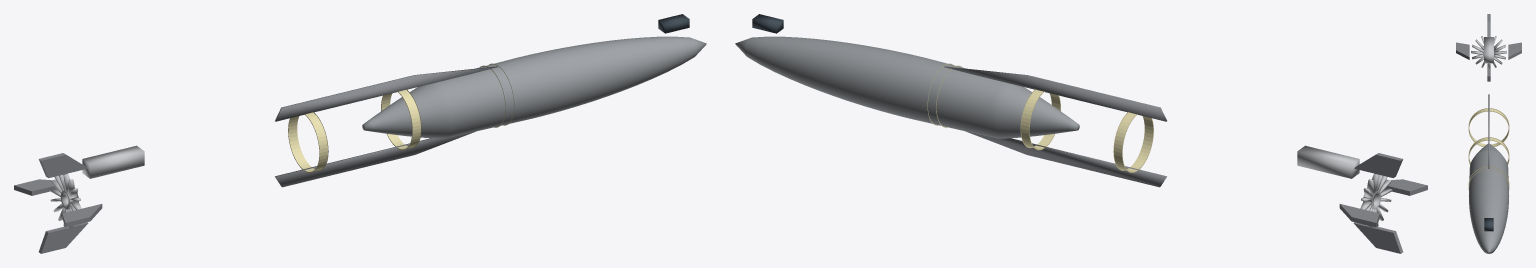
File: UK_TORP_Tigerfish_Mod1_LOD0.fbx
3 renders of one model, left to right at view 1: azimuth 30°, elevation 25°; view 2: azimuth 150°, elevation 25°; view 3: azimuth 270°, elevation 25°, orthographic. The views are drawn at different scales.
Parts seen in each view (by area): view 1: WPN_UK_TORP_Tigerfish_Mod1_LOD0_Body, WPN_UK_TORP_Tigerfish_Mod1_LOD0_Detail, WPN_UK_TORP_Tigerfish_Mod1_LOD0_Fins, WPN_UK_TORP_Tigerfish_Mod1_LOD0_Marking, WPN_UK_TORP_Tigerfish_Mod1_LOD0_Propulsor, WPN_UK_TORP_Tigerfish_Mod1_LOD0_Seeker; view 2: WPN_UK_TORP_Tigerfish_Mod1_LOD0_Body, WPN_UK_TORP_Tigerfish_Mod1_LOD0_Detail, WPN_UK_TORP_Tigerfish_Mod1_LOD0_Fins, WPN_UK_TORP_Tigerfish_Mod1_LOD0_Marking, WPN_UK_TORP_Tigerfish_Mod1_LOD0_Propulsor, WPN_UK_TORP_Tigerfish_Mod1_LOD0_Seeker; view 3: WPN_UK_TORP_Tigerfish_Mod1_LOD0_Body, WPN_UK_TORP_Tigerfish_Mod1_LOD0_Marking, WPN_UK_TORP_Tigerfish_Mod1_LOD0_Fins, WPN_UK_TORP_Tigerfish_Mod1_LOD0_Propulsor, WPN_UK_TORP_Tigerfish_Mod1_LOD0_Detail, WPN_UK_TORP_Tigerfish_Mod1_LOD0_Seeker.
Boxes of the visible parts, box(x1,y1,x2,y2) form: WPN_UK_TORP_Tigerfish_Mod1_LOD0_Body: box(362, 36, 706, 138); WPN_UK_TORP_Tigerfish_Mod1_LOD0_Detail: box(82, 66, 497, 187); WPN_UK_TORP_Tigerfish_Mod1_LOD0_Fins: box(14, 153, 102, 253); WPN_UK_TORP_Tigerfish_Mod1_LOD0_Marking: box(288, 63, 514, 172); WPN_UK_TORP_Tigerfish_Mod1_LOD0_Propulsor: box(49, 173, 81, 228); WPN_UK_TORP_Tigerfish_Mod1_LOD0_Seeker: box(658, 14, 689, 33); WPN_UK_TORP_Tigerfish_Mod1_LOD0_Body: box(735, 36, 1079, 138); WPN_UK_TORP_Tigerfish_Mod1_LOD0_Detail: box(944, 66, 1359, 187); WPN_UK_TORP_Tigerfish_Mod1_LOD0_Fins: box(1339, 153, 1427, 253); WPN_UK_TORP_Tigerfish_Mod1_LOD0_Marking: box(927, 63, 1153, 172); WPN_UK_TORP_Tigerfish_Mod1_LOD0_Propulsor: box(1360, 173, 1392, 228); WPN_UK_TORP_Tigerfish_Mod1_LOD0_Seeker: box(752, 14, 783, 33); WPN_UK_TORP_Tigerfish_Mod1_LOD0_Body: box(1469, 144, 1508, 253); WPN_UK_TORP_Tigerfish_Mod1_LOD0_Marking: box(1468, 108, 1509, 189); WPN_UK_TORP_Tigerfish_Mod1_LOD0_Fins: box(1456, 14, 1521, 81); WPN_UK_TORP_Tigerfish_Mod1_LOD0_Propulsor: box(1471, 36, 1506, 68); WPN_UK_TORP_Tigerfish_Mod1_LOD0_Detail: box(1484, 37, 1493, 168); WPN_UK_TORP_Tigerfish_Mod1_LOD0_Seeker: box(1484, 218, 1493, 231).
Size of the model in its own units: 6.53 by 0.8715 by 0.8715.
